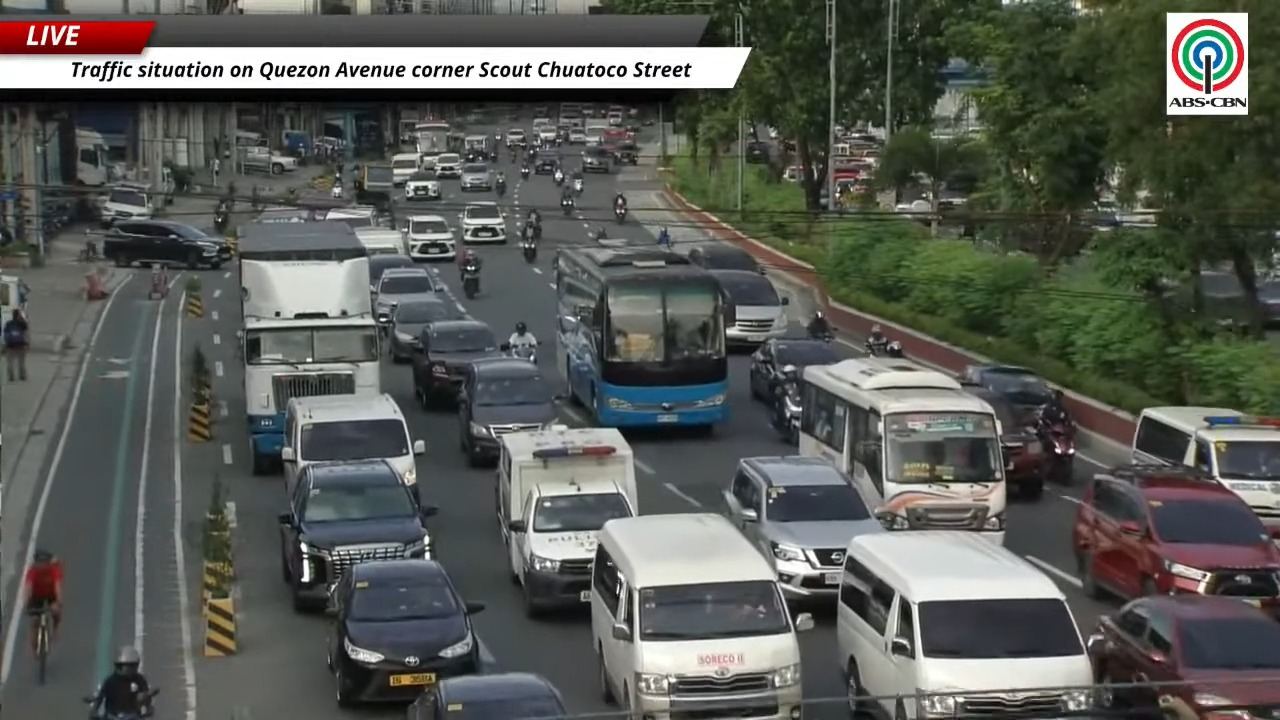bus: (799, 358, 1006, 543), (555, 248, 731, 427), (413, 121, 451, 155)
car: (1072, 465, 1279, 608), (279, 460, 436, 611), (1087, 595, 1279, 718), (722, 456, 884, 601), (327, 560, 483, 706), (458, 357, 555, 465), (962, 382, 1048, 499), (412, 319, 498, 408), (406, 672, 567, 719), (102, 219, 230, 269), (709, 270, 788, 345), (749, 338, 841, 401), (388, 296, 462, 361), (960, 364, 1051, 416), (374, 267, 443, 314), (100, 182, 160, 227), (688, 243, 764, 274), (405, 215, 456, 260), (459, 201, 506, 243), (369, 254, 414, 296), (355, 162, 396, 206), (324, 206, 380, 229), (404, 172, 441, 200), (252, 207, 313, 223), (391, 152, 420, 185), (460, 162, 492, 191), (582, 147, 612, 173), (434, 153, 463, 179), (533, 152, 560, 174), (463, 149, 490, 171), (613, 141, 638, 164), (745, 141, 768, 163), (505, 128, 527, 147), (538, 124, 558, 143), (532, 113, 551, 131), (567, 127, 587, 144), (556, 123, 571, 142)
motorcycle: (82, 688, 159, 719), (1038, 423, 1075, 484), (771, 381, 801, 443), (500, 343, 536, 363), (375, 302, 397, 334), (462, 266, 479, 299), (214, 205, 229, 233), (521, 239, 536, 263), (561, 198, 575, 217), (530, 219, 542, 241), (614, 204, 627, 223), (573, 178, 584, 195), (495, 180, 505, 197), (553, 171, 564, 185), (331, 184, 342, 198), (520, 165, 530, 179)
truck: (237, 222, 381, 474), (496, 425, 637, 616), (75, 127, 110, 186), (413, 120, 450, 169), (237, 146, 298, 175)
